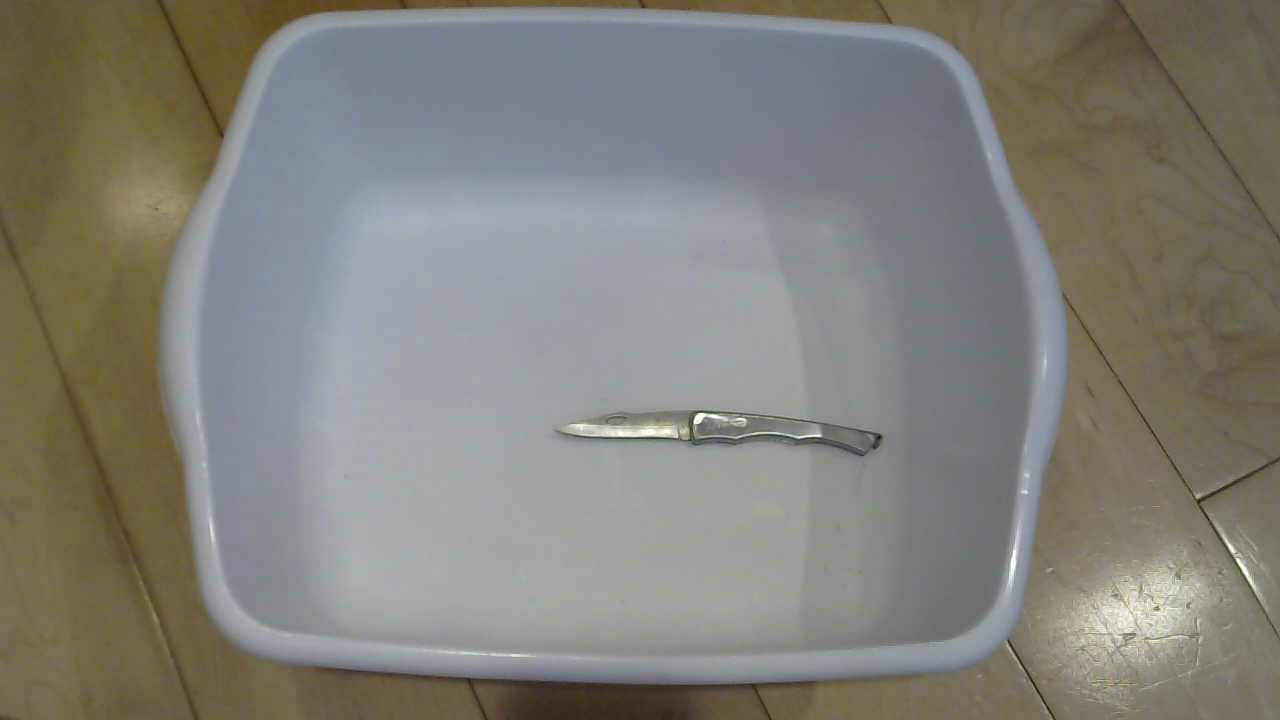knife: (525, 393, 900, 498)
